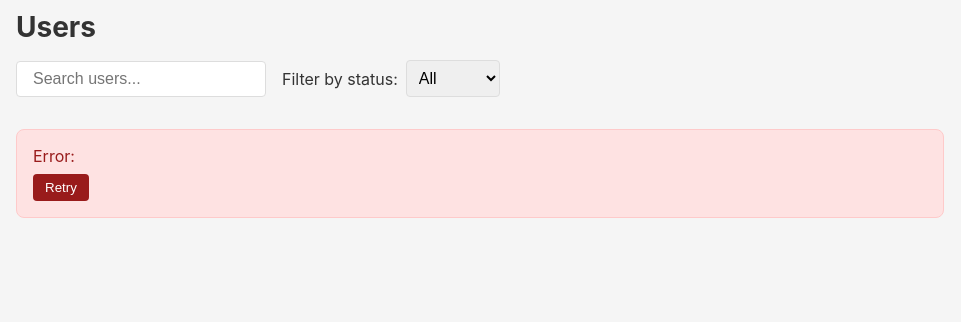
Test: UsersPage › retries fetching when the retry button is clicked
Expected: the message "Error: Retry" is shown, [16,129,944,218]
// Click retry
What coordinates should you click on to do the following:
click the button "Retry"
I would click on:
 (61, 188)
Its box is [33,174,89,201].
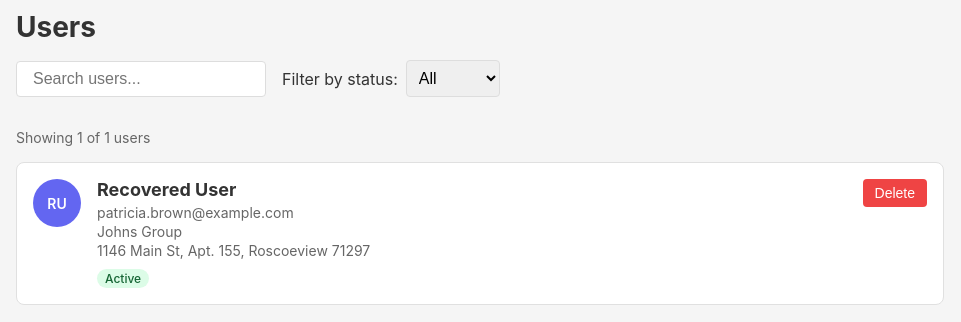
Now the heading "Recovered User" is shown, box [97,179,236,200]
